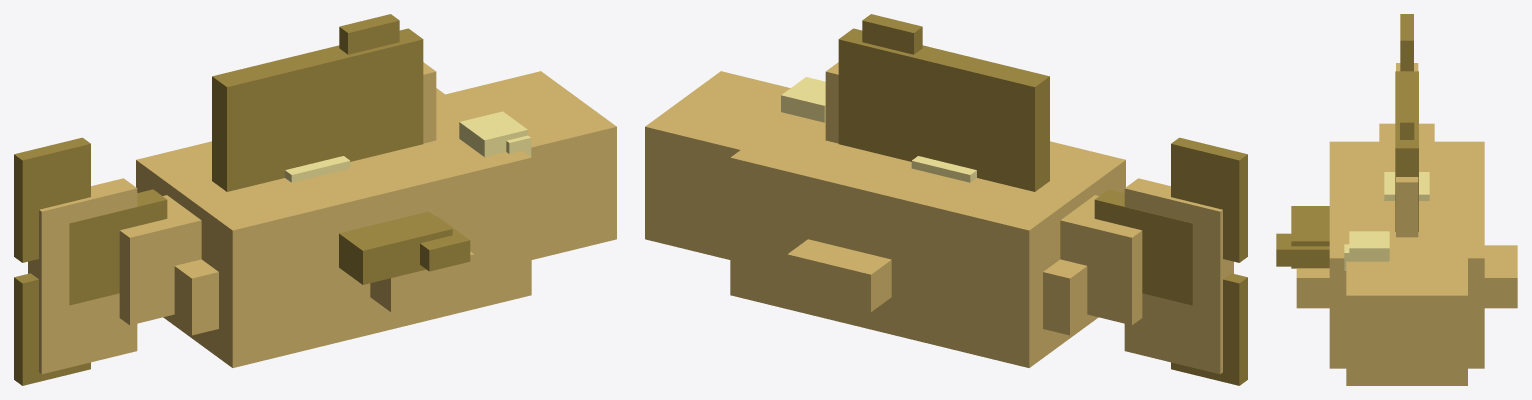
File: fish_lantern_shad.glb
The picture shows the model from 3 angles, left to right: view 1: azimuth 30°, elevation 25°; view 2: azimuth 150°, elevation 25°; view 3: azimuth 270°, elevation 25°; orthographic projection. The views are drawn at different scales.
Visible parts, largest first — view 1: FishArt_body, FishArt_dorsal, FishArt_tail, FishArt_pectoral, FishArt_eye, FishArt_specialty; view 2: FishArt_body, FishArt_dorsal, FishArt_tail, FishArt_eye, FishArt_specialty; view 3: FishArt_body, FishArt_pectoral, FishArt_dorsal, FishArt_eye, FishArt_tail, FishArt_specialty.
Boxes of the visible parts, box(x1,y1,x2,y2) form: FishArt_body: box(28, 62, 616, 374); FishArt_dorsal: box(212, 14, 423, 191); FishArt_tail: box(14, 137, 167, 385); FishArt_pectoral: box(339, 211, 470, 284); FishArt_eye: box(459, 111, 531, 156); FishArt_specialty: box(285, 156, 350, 182); FishArt_body: box(645, 62, 1233, 374); FishArt_dorsal: box(838, 14, 1049, 191); FishArt_tail: box(1094, 137, 1247, 385); FishArt_eye: box(781, 77, 825, 122); FishArt_specialty: box(911, 156, 976, 182); FishArt_body: box(1296, 63, 1517, 385); FishArt_pectoral: box(1276, 206, 1329, 268); FishArt_dorsal: box(1395, 71, 1418, 231); FishArt_eye: box(1344, 231, 1389, 270); FishArt_tail: box(1400, 14, 1413, 71); FishArt_specialty: box(1384, 172, 1429, 200).
Size of the model in its own units: 0.3091 by 0.1442 by 0.1439.
